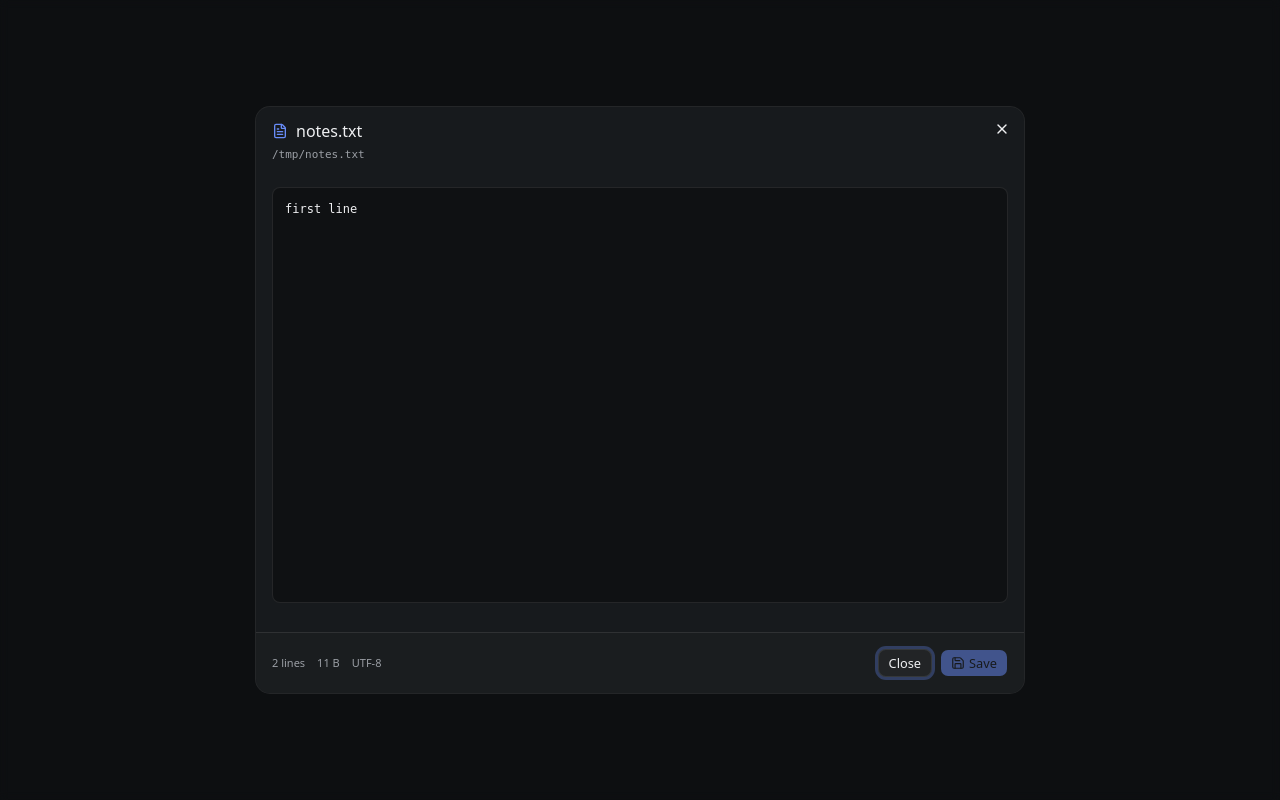
Scenario: TextEditorDialog › reports a conflict and offers reload or overwrite
Later steps or results of the test are not shown.
In the text box named "File contents": (640, 395) [272,187,1008,603], type "forced"
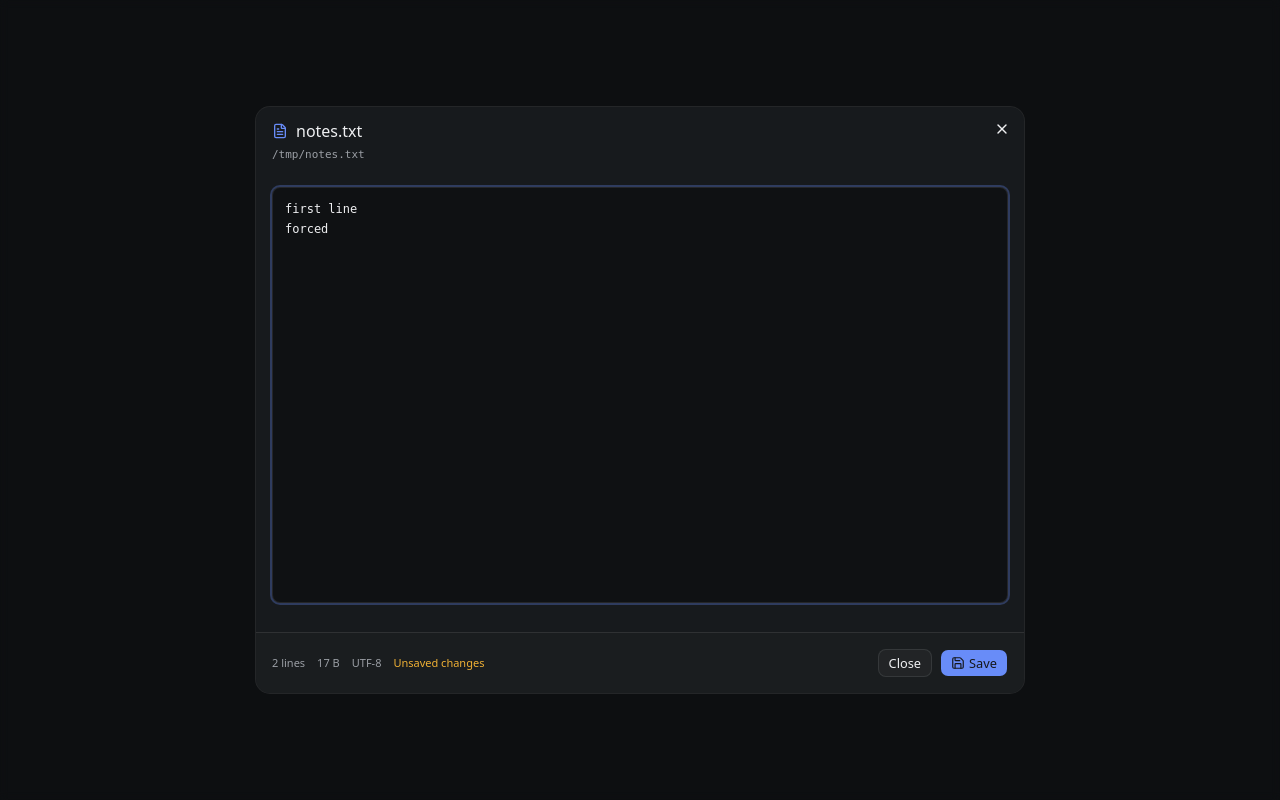
Click the button "Save": (974, 663) [940,649,1008,677]
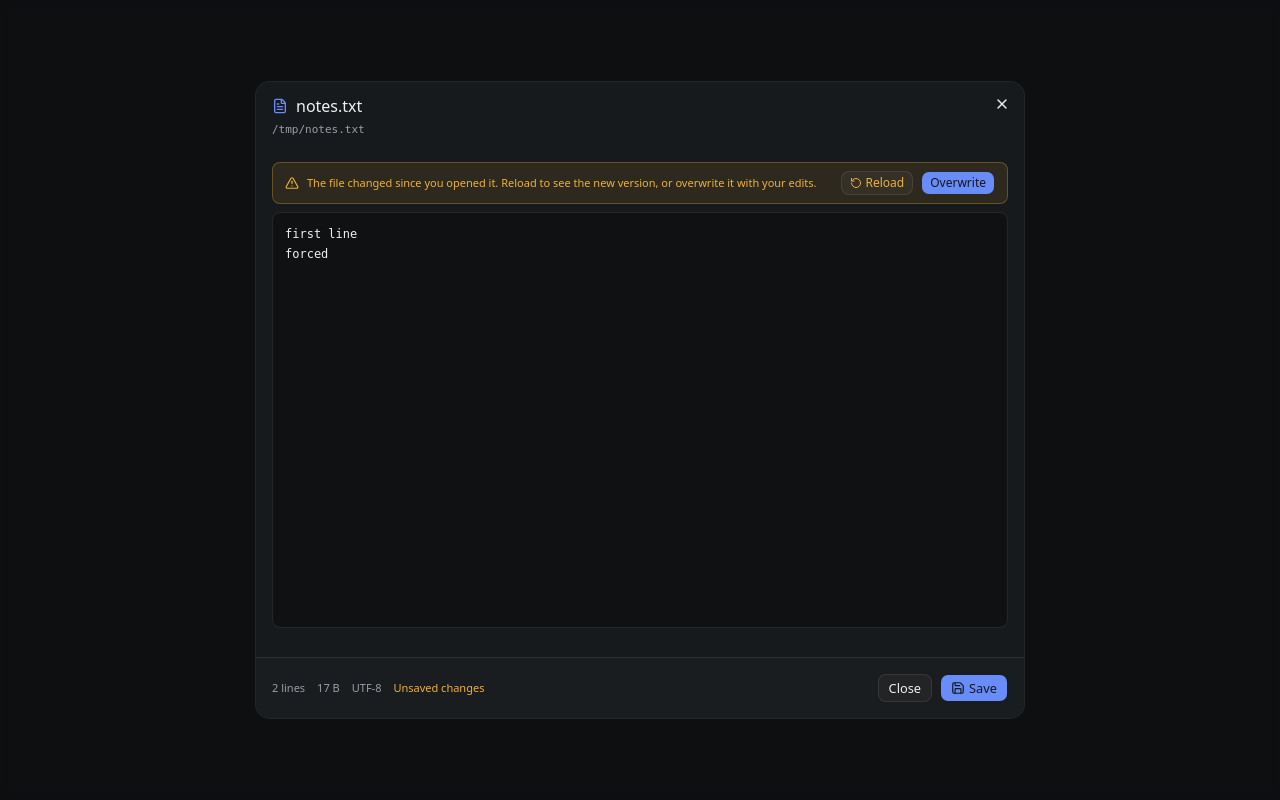
Expected: the text "The file changed since you opened it" is shown, [307,175,816,190]
